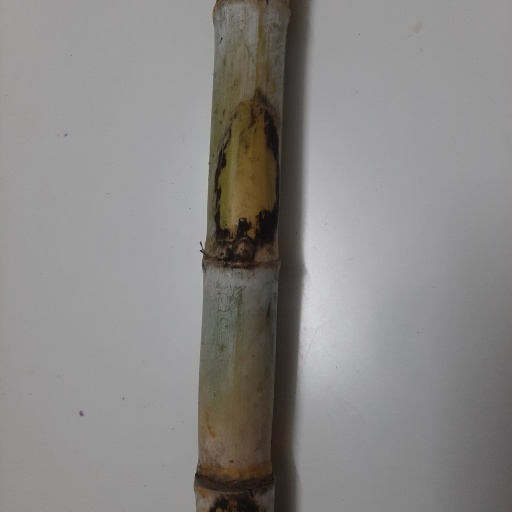Bud: (233, 236, 253, 266)
